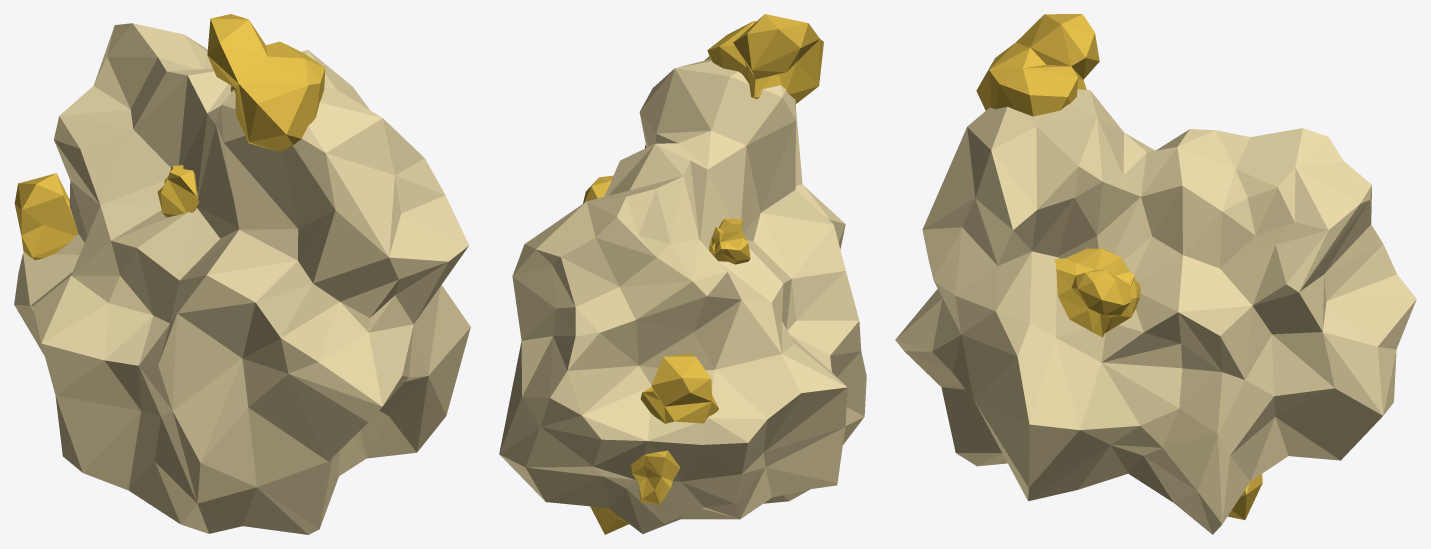
File: MetalOre (17).fbx
3 views of the same model, side by side, from view 1: azimuth 30°, elevation 25°; view 2: azimuth 150°, elevation 25°; view 3: azimuth 270°, elevation 25° (orthographic). The views are drawn at different scales.
Visible parts, largest first — view 1: Asteroid372; view 2: Asteroid372; view 3: Asteroid372.
Part boxes in pixels (bbox=[...]): Asteroid372: bbox=[14, 14, 470, 534]; Asteroid372: bbox=[499, 14, 866, 534]; Asteroid372: bbox=[895, 14, 1416, 534].
Size of the model in its own units: 252 by 351 by 357.
